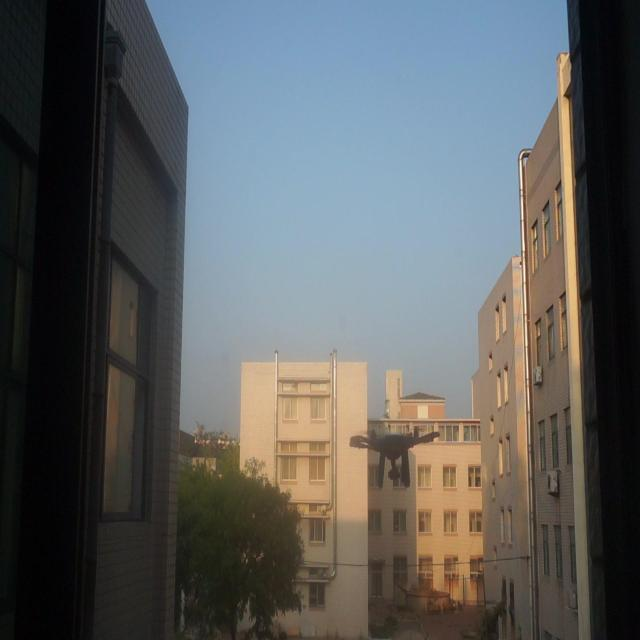drone: (348, 424, 439, 488)
